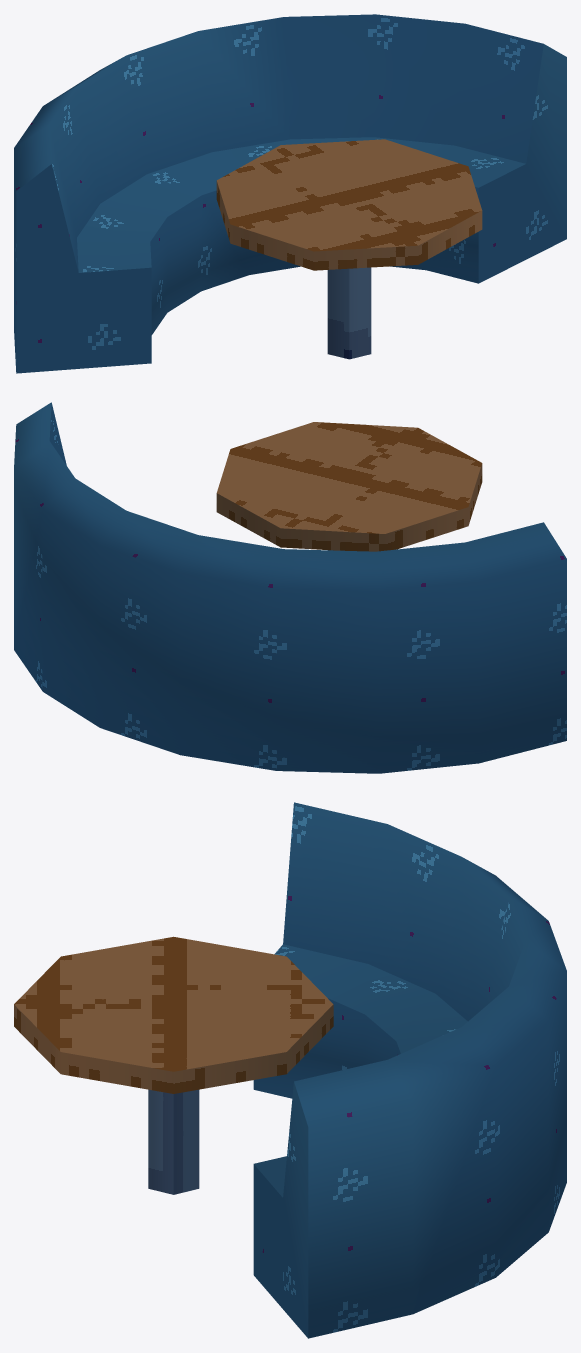
The model's file is cyroom.booth.glb.
3 renders of one model, top to bottom at view 1: azimuth 30°, elevation 25°; view 2: azimuth 150°, elevation 25°; view 3: azimuth 270°, elevation 25°, orthographic. The views are drawn at different scales.
Visible parts, largest first — view 1: kit_body; view 2: kit_body; view 3: kit_body.
Part boxes in pixels (box(x1,y1,x2,y2)): kit_body: box(14, 14, 566, 373); kit_body: box(14, 402, 566, 773); kit_body: box(14, 802, 566, 1338).
Size of the model in its own units: 3.01 by 1.08 by 2.25.
Materials: 3 (3 with a texture image).
